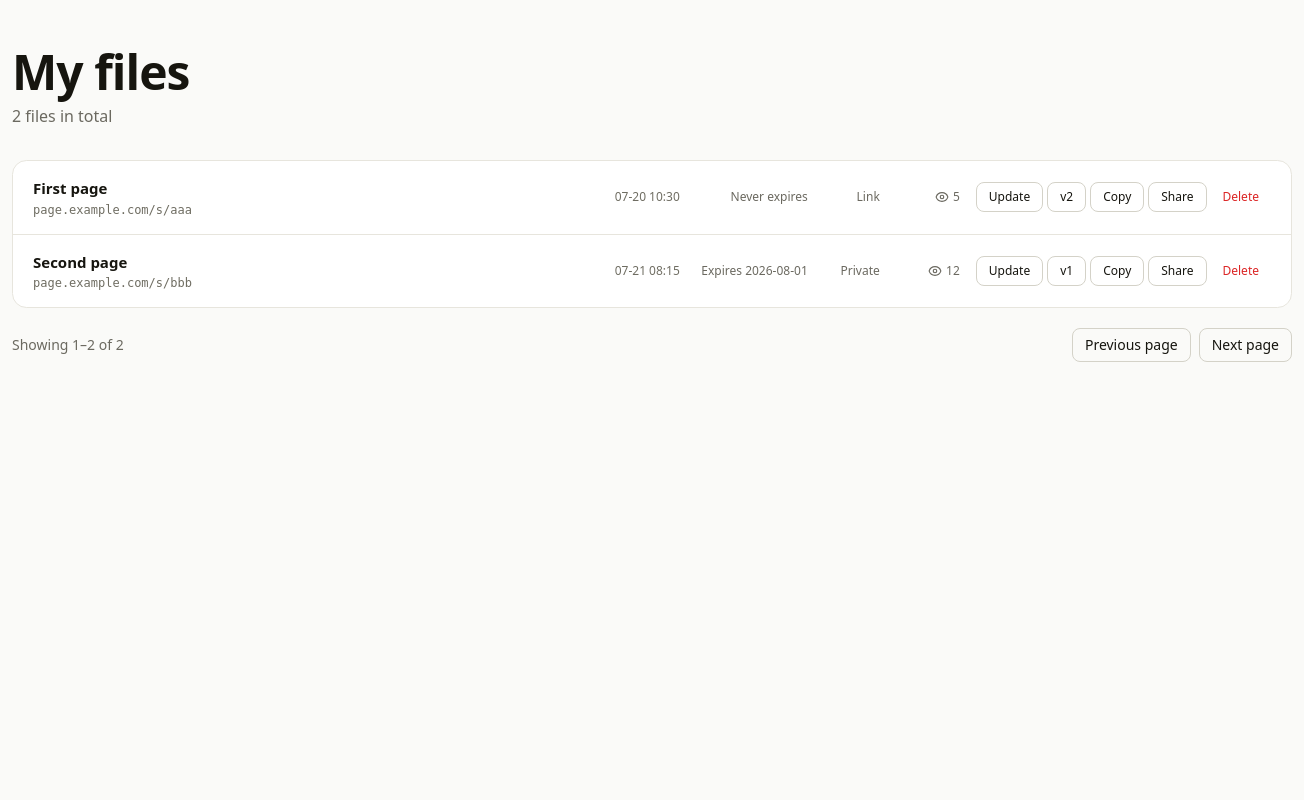
FilesPage › pin failure: PATCH rejects → toast shown and select snaps back to server value
Expected: the text "First page" is shown, [33,178,107,198]
Click the button named "Version history: First page" at (1067, 197), box [1047,182,1086,212]
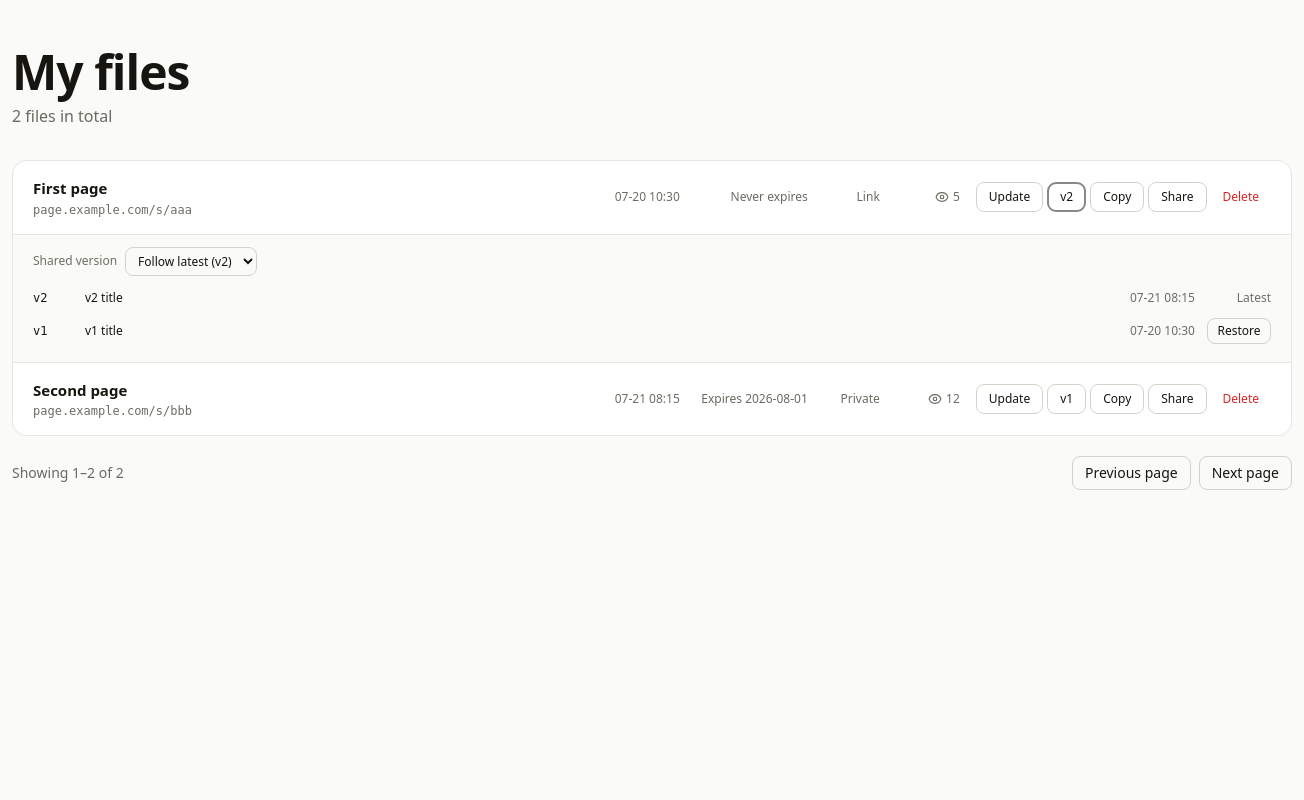
Now the text "v1 title" is shown, box [85,322,123,338]
Select "Pin to v1" in the dropdown named "Shared version" at (191, 261), box [125,246,257,276]
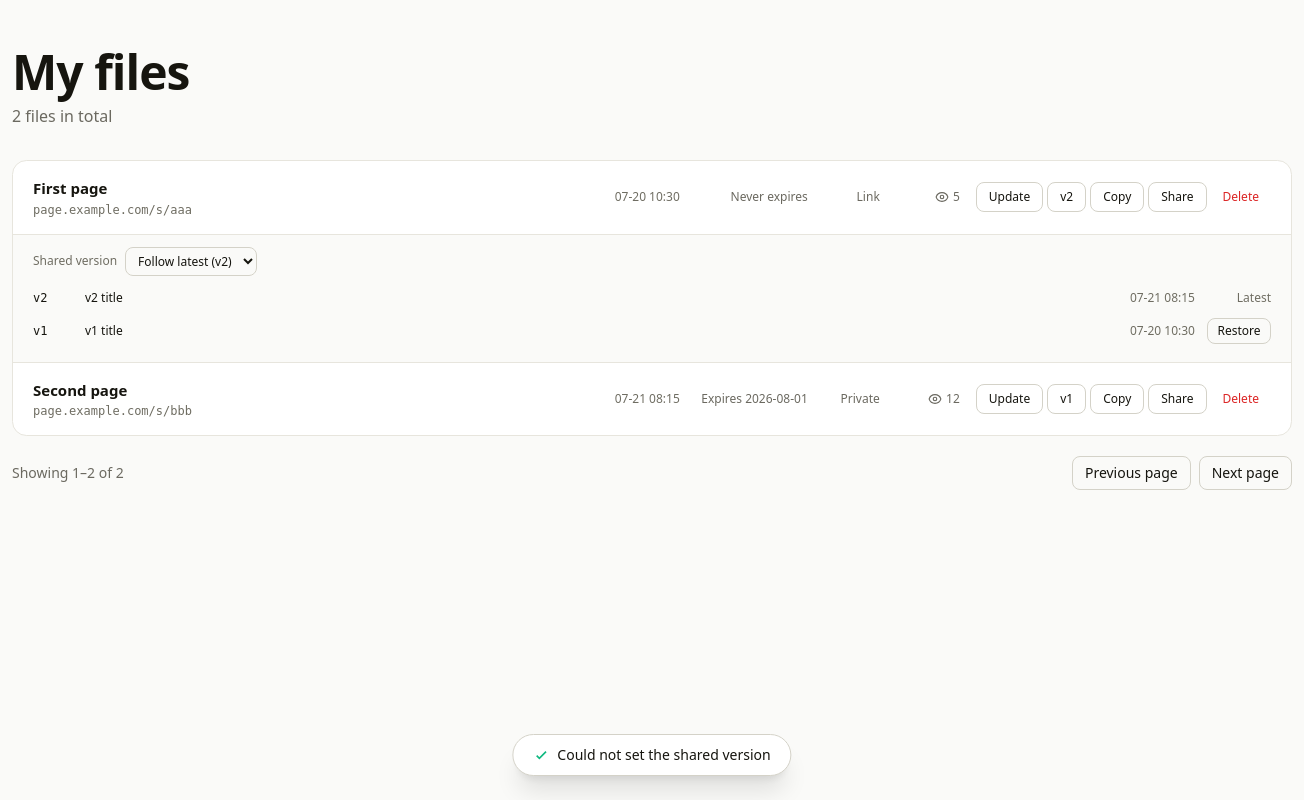
Expected: the button named "Version history: First page" does not show "pinned v1", [1047,182,1086,212]
Now the text "Could not set the shared version" is shown, box [557,745,771,765]
